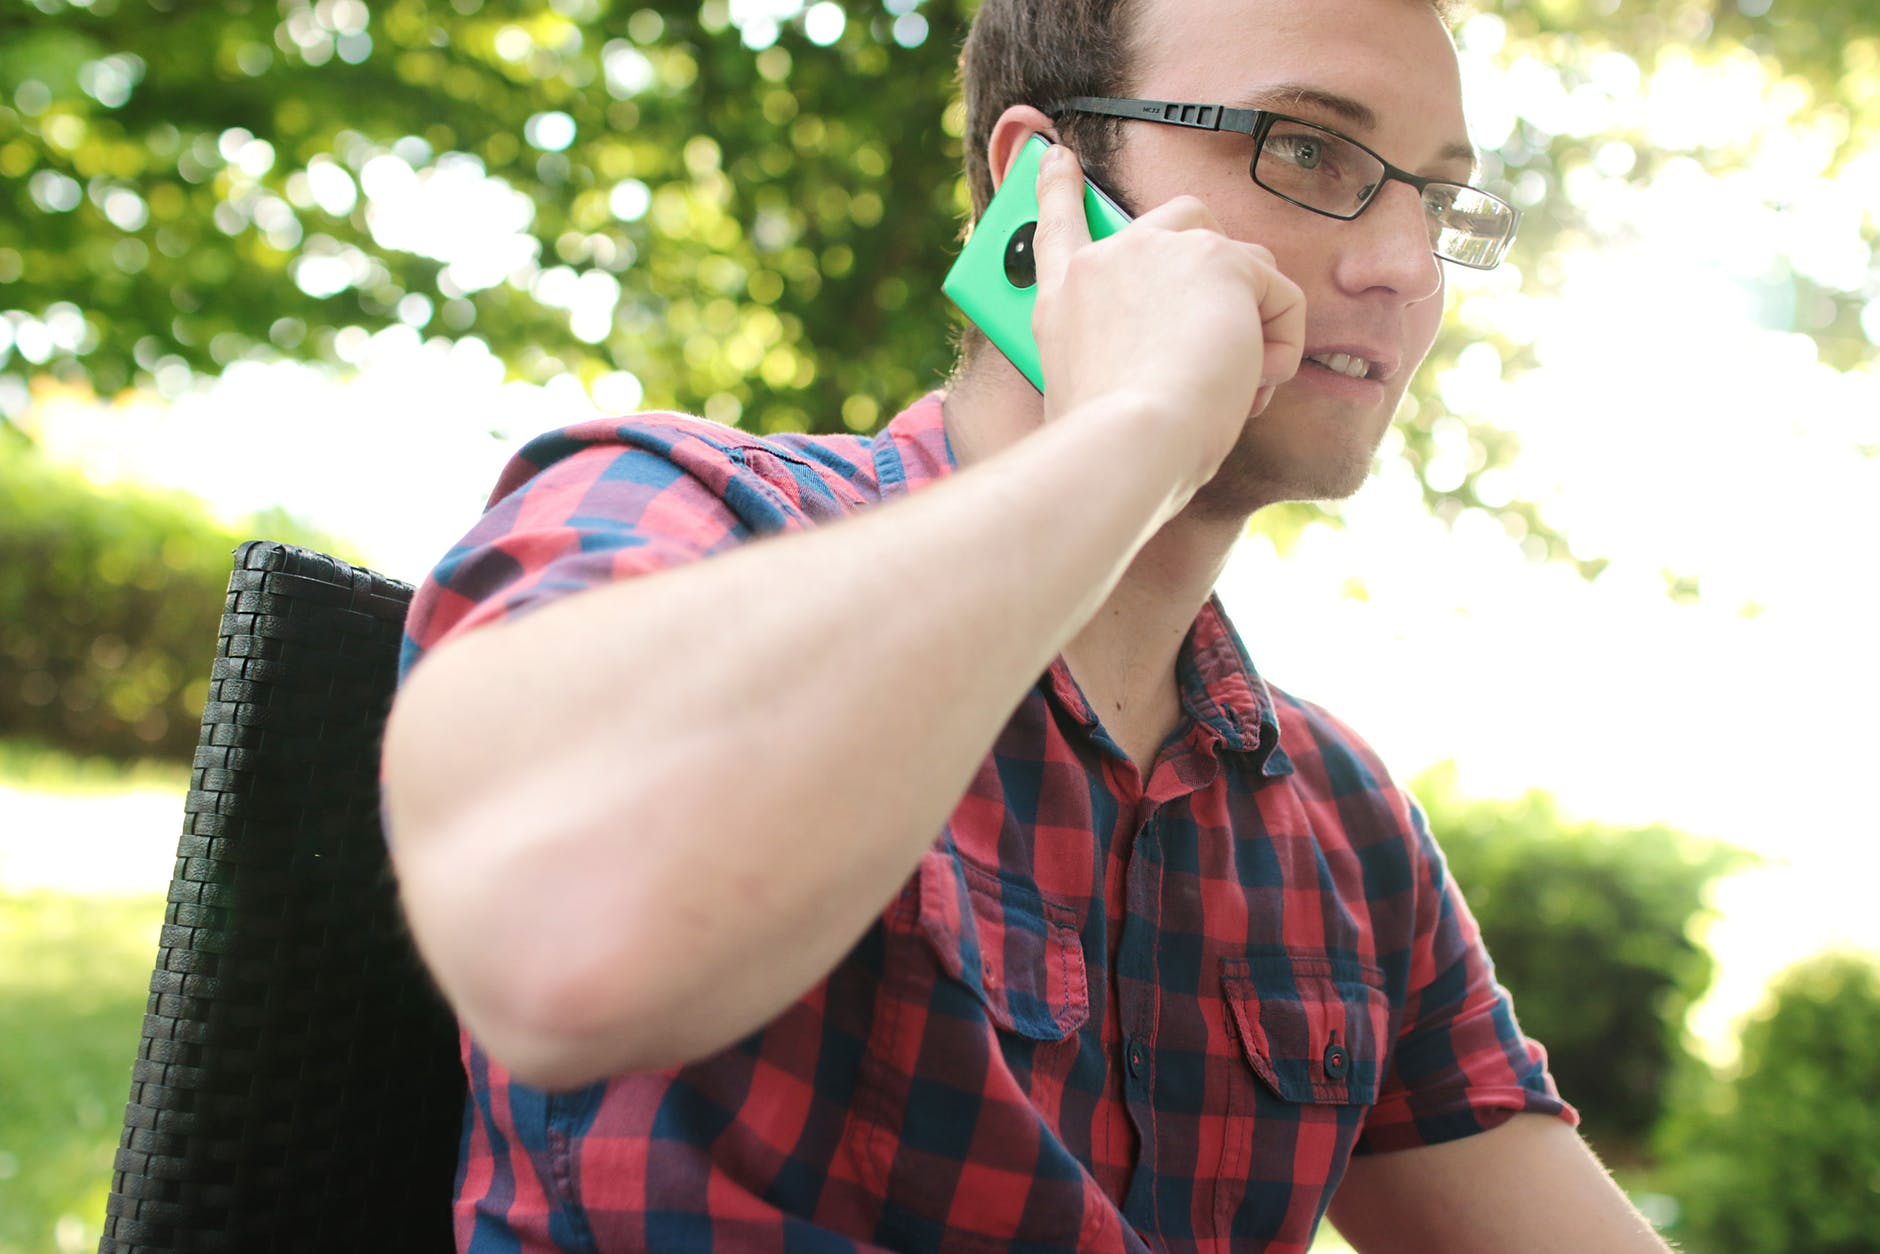phone: (946, 134, 1172, 393)
talk: (940, 66, 1469, 508)
